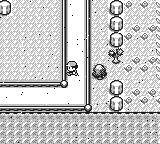captura: (155, 1, 159, 80)
main: (66, 62, 78, 75)
mo: (108, 48, 124, 64)
no-caminable: (108, 0, 124, 47), (108, 80, 124, 111), (92, 64, 107, 80), (0, 0, 12, 16)
